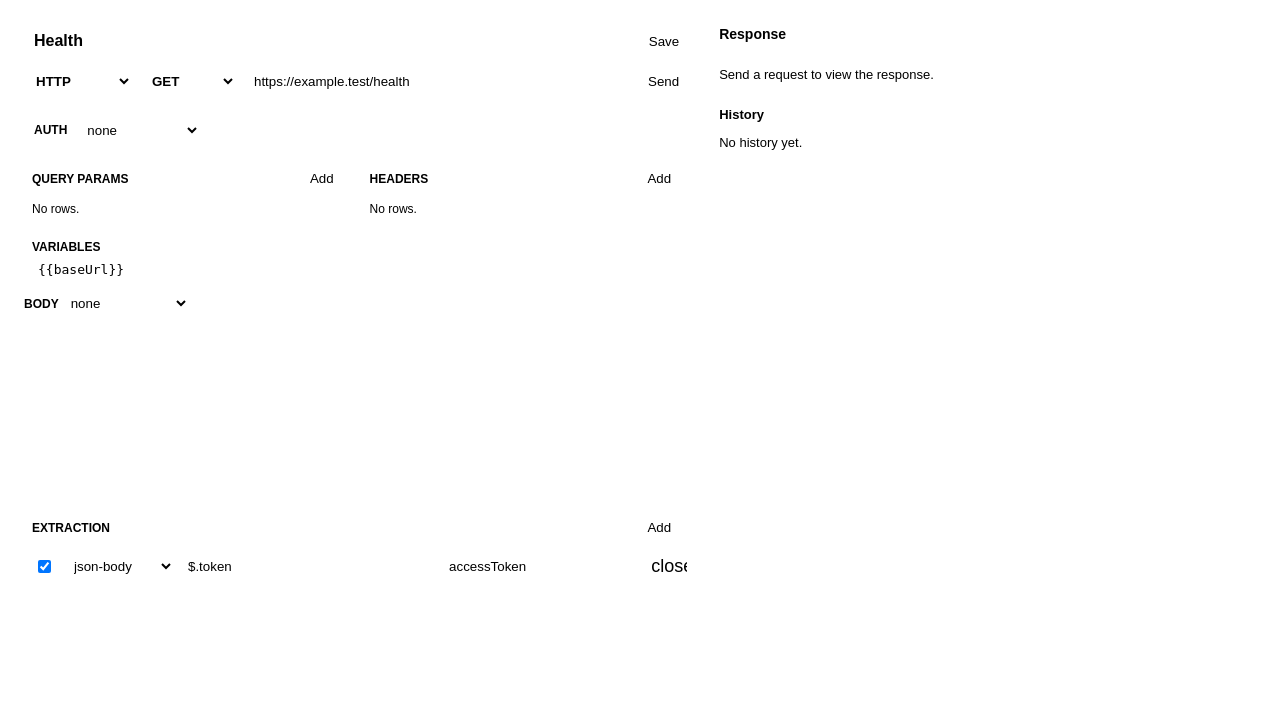
Test case: RequesterApp › shows active variable suggestions and extraction preview
Expected: the text "{{baseUrl}}" is shown, [32,260,130,279]
Click the button "Send".
click(664, 82)  # box [640,70,687,93]
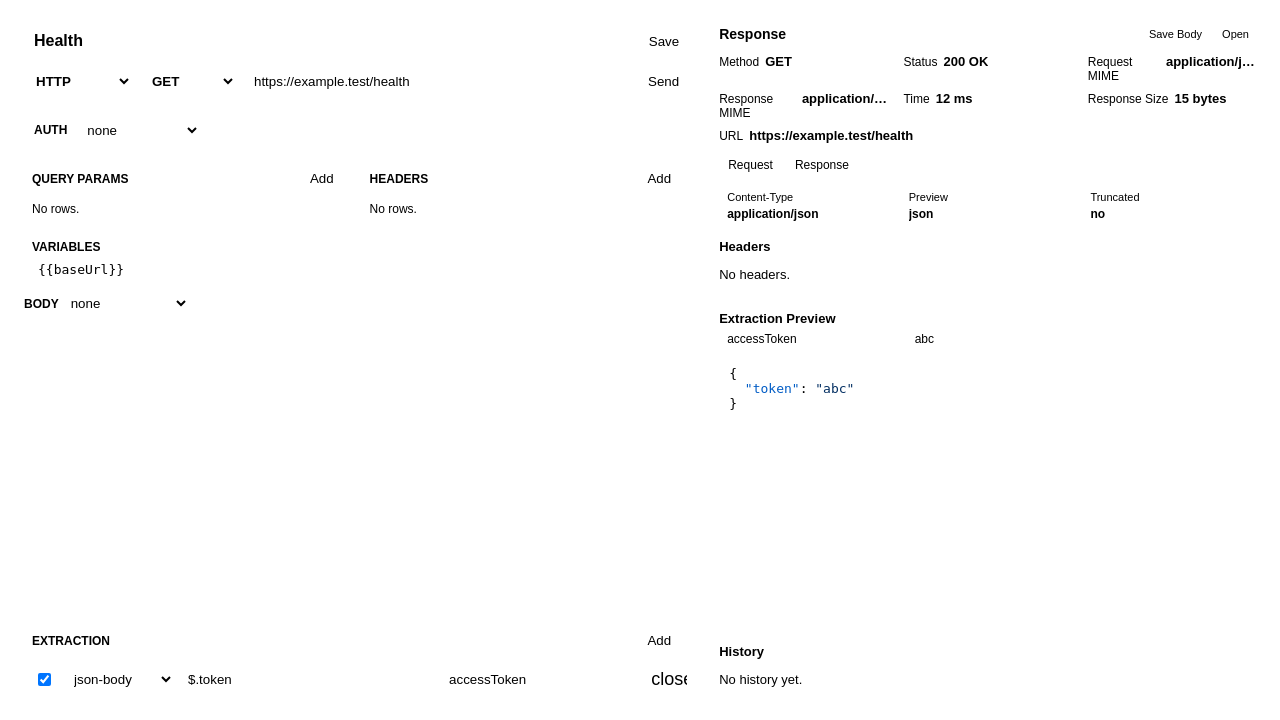
Result: the heading "Extraction Preview" is shown at [719,311,836,326]
Result: the text "accessToken" is shown at [727,332,797,346]
Result: the text "abc" is shown at [915,332,934,346]
